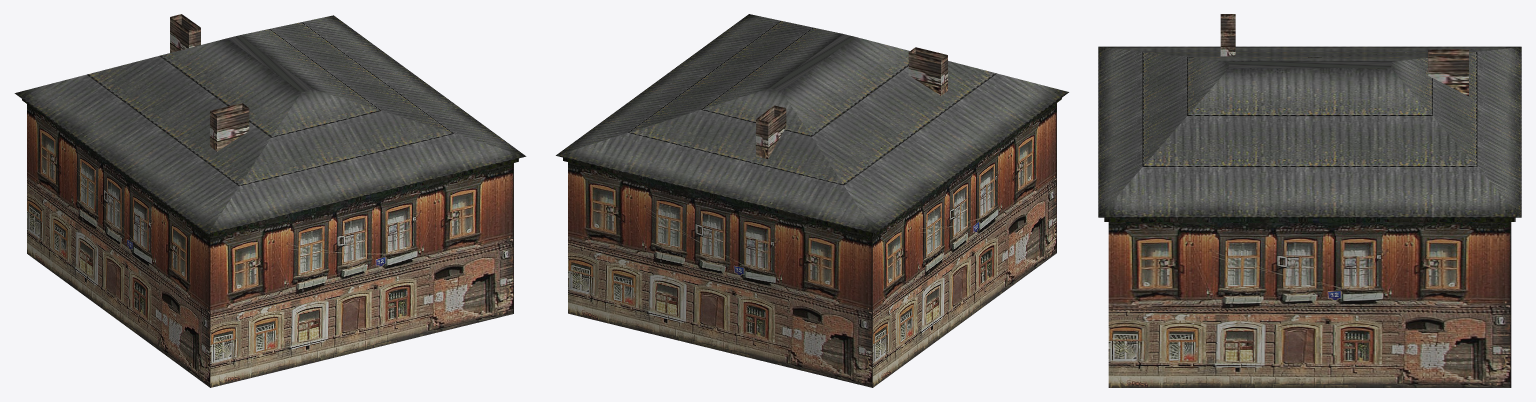
The model's file is sibir_dom_2et4.FBX.
The picture shows the model from 3 angles, left to right: view 1: azimuth 30°, elevation 25°; view 2: azimuth 150°, elevation 25°; view 3: azimuth 270°, elevation 25°; orthographic projection. The views are drawn at different scales.
Visible parts, largest first — view 1: sibir_dom_2et4; view 2: sibir_dom_2et4; view 3: sibir_dom_2et4.
Part boxes in pixels (<box>): sibir_dom_2et4: <box>14,14,526,387</box>; sibir_dom_2et4: <box>556,14,1068,387</box>; sibir_dom_2et4: <box>1098,14,1521,387</box>.
Bounding box in the file's own units: 14.35 × 15.02 × 9.48.
